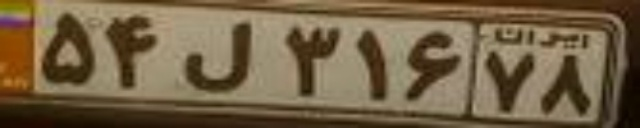1: (354, 30, 387, 99)
3: (282, 26, 340, 95)
4: (102, 13, 163, 89)
5: (40, 14, 92, 85)
6: (402, 30, 461, 99)
7: (483, 51, 534, 112)
8: (539, 53, 592, 117)
lam: (184, 21, 249, 92)
